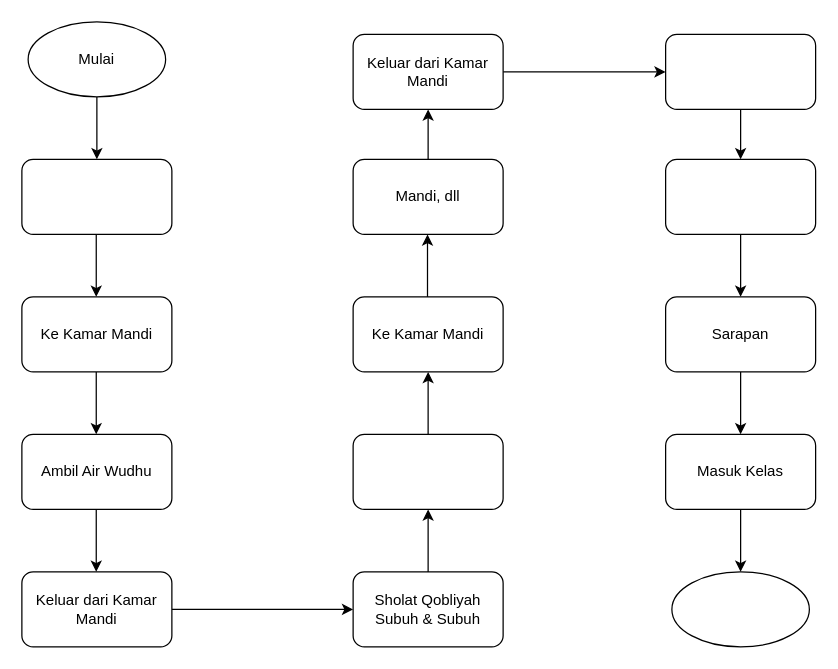
Some shapes in this 838 by 669 pixel diagram are drawn without their labels. Each missing label, with the box of its shape:
Bangun Tidur: (21, 158, 172, 234)
Belajar: (352, 433, 503, 509)
Beli Sarapan: (664, 158, 816, 234)
Berpakaian Rapi: (664, 33, 816, 109)
Selesai: (671, 571, 809, 647)
